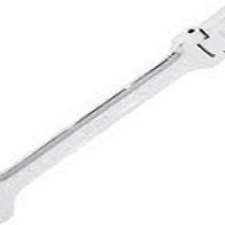Wrench: (1, 13, 225, 221)
